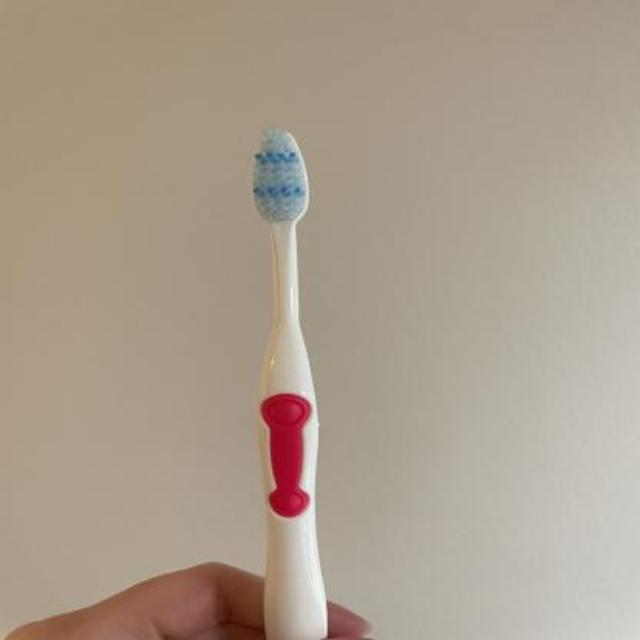toothbrush: (240, 116, 330, 640)
